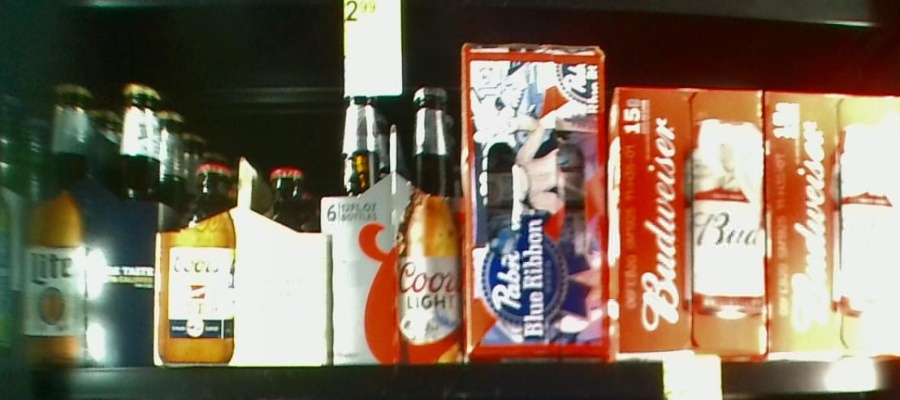bottle: (462, 42, 611, 360), (610, 86, 767, 362), (25, 76, 157, 363), (332, 82, 464, 363), (763, 90, 900, 357), (161, 156, 329, 365)
